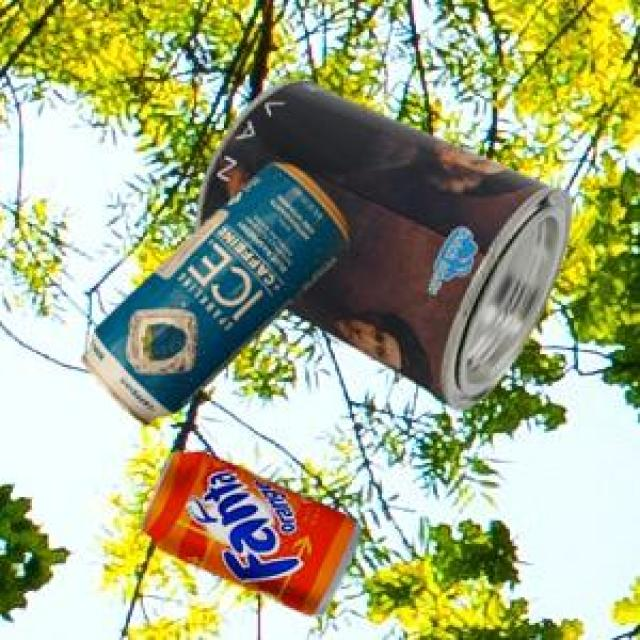logam: (193, 78, 569, 406), (80, 161, 345, 421), (140, 449, 355, 611)
